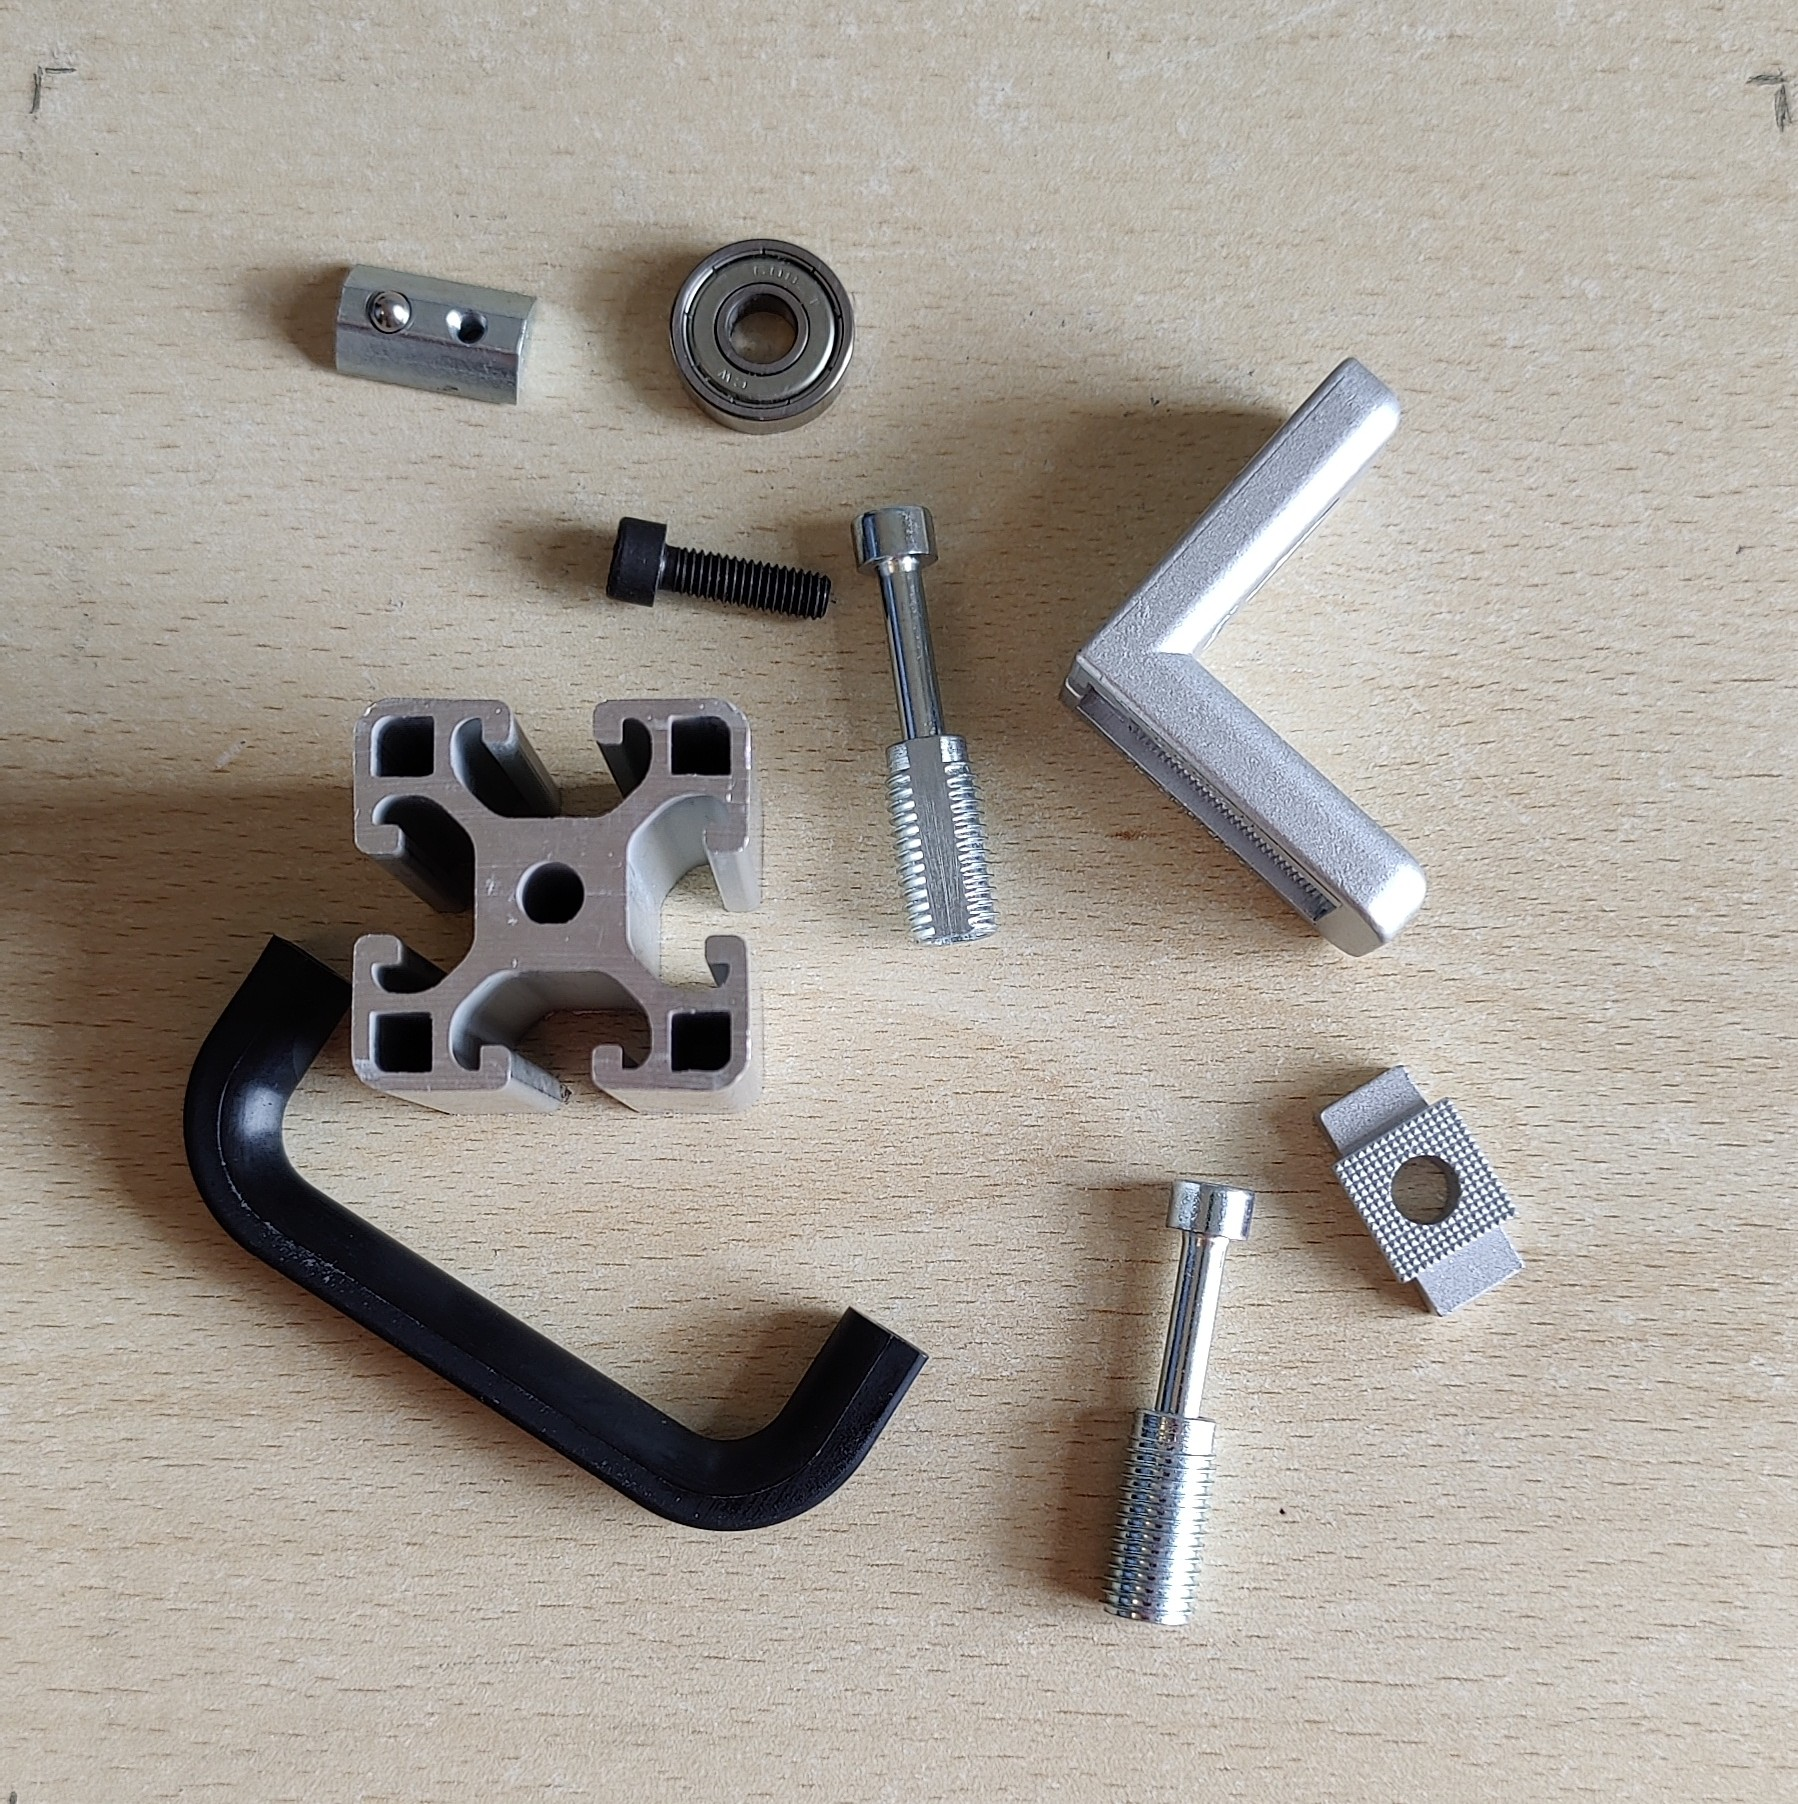Aluminium Extension: (347, 691, 769, 1118)
Ball Bearing: (662, 235, 858, 438)
Multiwinkel: (1055, 352, 1432, 960)
Pull Handle: (178, 927, 932, 1532)
Shoulder Socket Head Cap Screw: (1098, 1177, 1260, 1630), (851, 500, 1003, 948)
Socket Head Cap Screw: (603, 514, 833, 622)
T Nut Square: (1314, 1062, 1526, 1318)
T Spring Nut: (333, 262, 540, 408)
